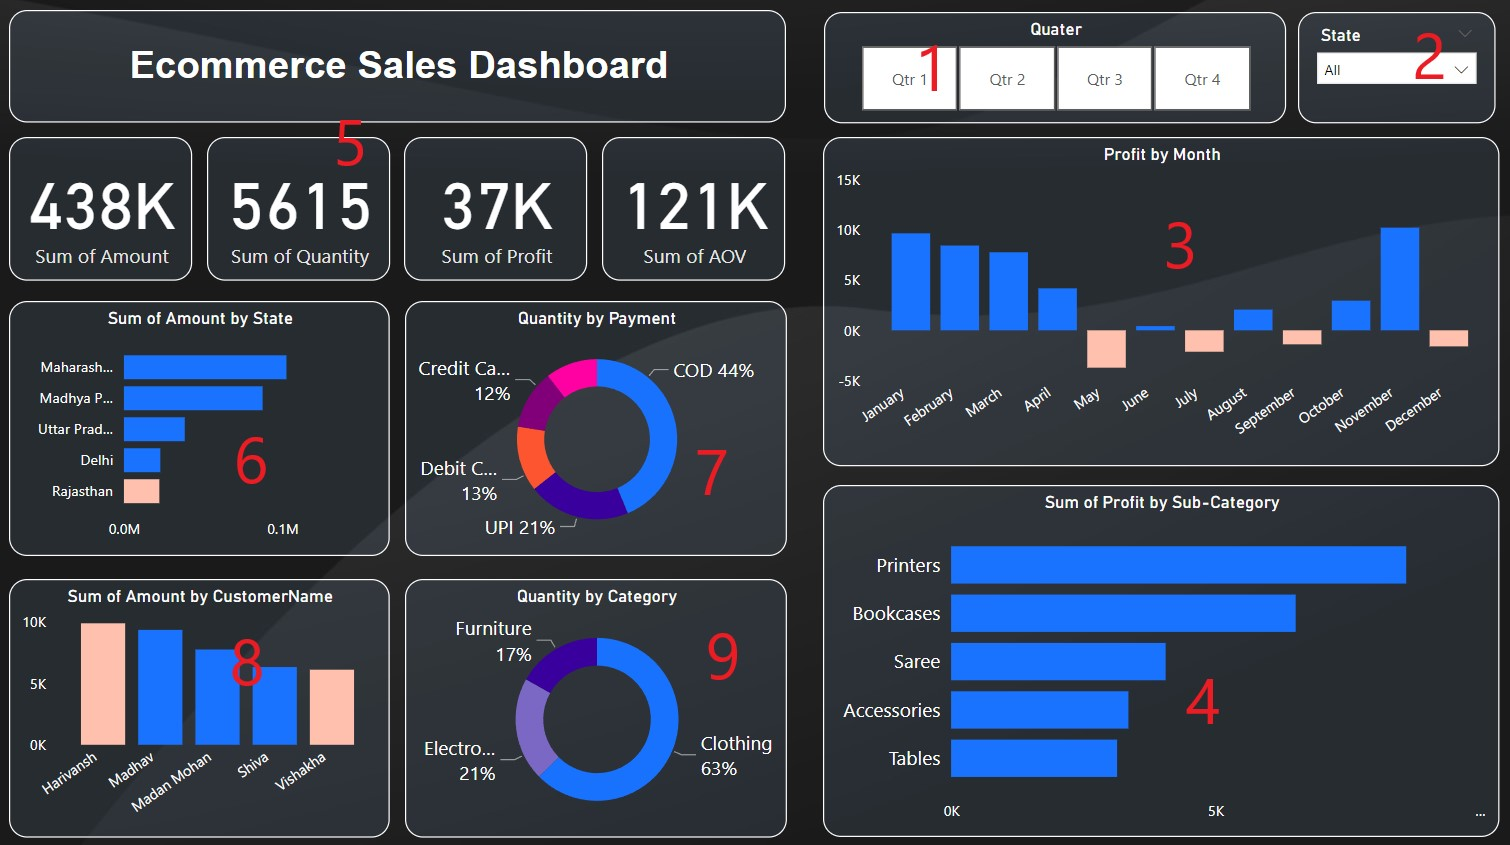

This screenshot's page, from the dashboard's own definition file:
{"tool":"powerbi","page":{"name":"Page 1","canvas":[1280,720],"ordinal":0},"visuals":[{"type":"textbox","box":[15.3,14.1,649.4,94.1],"z":0},{"type":"columnChart","title":"Profit by Month","fields":{"Category":["Orders.Order Date.Variation.Date Hierarchy.Month"],"Y":["Details.Profit"]},"box":[695.3,120,564.7,275.3],"z":1000},{"type":"barChart","fields":{"Category":["Details.Sub-Category"],"Y":["Details.Profit"]},"box":[695.3,410.6,564.7,294.1],"z":2000},{"type":"donutChart","title":"Quantity by Category","fields":{"Category":["Details.Category"],"Y":["Details.Quantity"]},"box":[345.9,489.4,318.8,216.5],"z":3000},{"type":"donutChart","title":"Quantity by Payment","fields":{"Category":["Details.PaymentMode"],"Y":["Details.Quantity"]},"box":[345.9,257.6,318.8,212.9],"z":4000},{"type":"card","fields":{"Values":["Details.AOV"]},"box":[510.3,120,153.3,120],"z":5000,"group":"g1"},{"type":"barChart","fields":{"Category":["Orders.State"],"Y":["Details.Amount"]},"box":[15.3,257.6,317.6,212.9],"z":5000},{"type":"card","fields":{"Values":["Details.Profit"]},"box":[345.3,120,153.3,120],"z":6000,"group":"g1"},{"type":"columnChart","fields":{"Category":["Orders.CustomerName"],"Y":["Details.Amount"]},"box":[15.3,489.4,317.6,216.5],"z":6000},{"type":"card","fields":{"Values":["Details.Quantity"]},"box":[180.3,120,153.3,120],"z":7000,"group":"g1"},{"type":"slicer","title":"Quater","fields":{"Values":["Orders.Order Date.Variation.Date Hierarchy.Quarter"]},"box":[695.8,15.9,385.9,92.7],"z":7000},{"type":"card","fields":{"Values":["Details.Amount"]},"box":[15.3,120,153.3,120],"z":8000,"group":"g1"},{"type":"slicer","title":"State","fields":{"Values":["Orders.State"]},"box":[1091.7,15.9,164.5,92.7],"z":8000},{"type":"group","id":"g1","title":"Group 1","box":[15.3,120,648.2,120],"z":9000}]}

Visuals, with their boxes in screenshot pixels (x1, y1, x2, y2), scaled from the page's 1280x720 canvas onto the 1510x845 screenshot:
textbox: (18,17,784,127)
"Profit by Month" columnChart: (820,141,1486,464)
barChart - Details.Sub-Category x Details.Profit: (820,482,1486,827)
"Quantity by Category" donutChart: (408,574,784,828)
"Quantity by Payment" donutChart: (408,302,784,552)
card - Details.AOV: (602,141,783,282)
barChart - Orders.State x Details.Amount: (18,302,393,552)
card - Details.Profit: (407,141,588,282)
columnChart - Orders.CustomerName x Details.Amount: (18,574,393,828)
card - Details.Quantity: (213,141,394,282)
"Quater" slicer: (821,19,1276,127)
card - Details.Amount: (18,141,199,282)
"State" slicer: (1288,19,1482,127)
"Group 1" group: (18,141,783,282)
